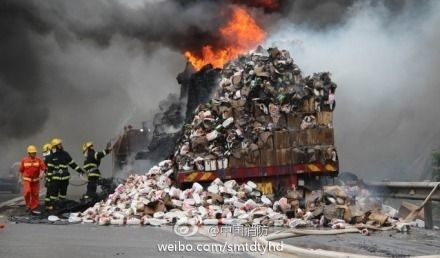fire: (183, 4, 267, 71)
